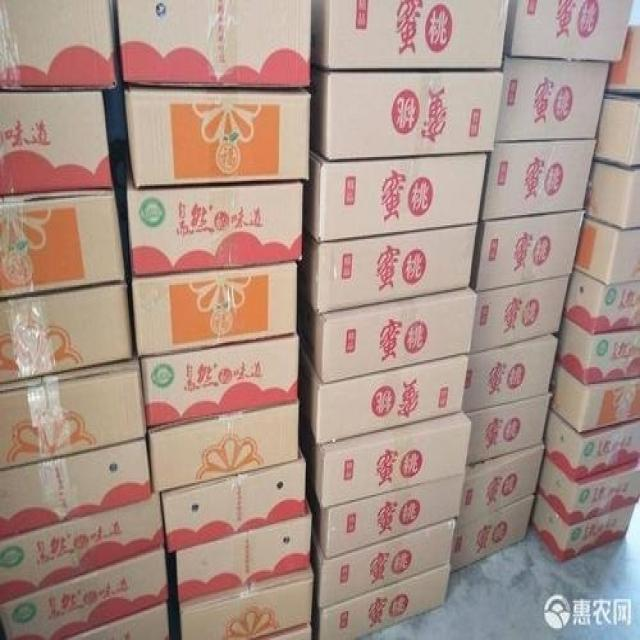box: (114, 179, 302, 282), (125, 86, 310, 187), (310, 64, 504, 158), (0, 493, 165, 602), (302, 147, 488, 240), (110, 2, 310, 88), (0, 353, 148, 469), (297, 219, 480, 312), (297, 286, 474, 381), (299, 412, 473, 507), (136, 336, 299, 436), (298, 352, 471, 445), (127, 260, 298, 352), (0, 437, 153, 538), (0, 548, 168, 638), (146, 402, 300, 495), (160, 458, 307, 554), (0, 190, 127, 300), (0, 284, 136, 382), (166, 515, 312, 605), (306, 476, 464, 559), (312, 518, 459, 607), (1, 89, 113, 197), (0, 0, 118, 90), (168, 568, 313, 638), (495, 56, 611, 140), (312, 569, 450, 638), (480, 139, 599, 218), (474, 209, 585, 285), (462, 329, 563, 412), (472, 270, 574, 352), (505, 0, 634, 62), (529, 493, 639, 563), (536, 453, 639, 526), (450, 492, 536, 573), (545, 407, 639, 479), (549, 362, 639, 435), (459, 445, 546, 518), (463, 395, 551, 467), (557, 320, 639, 388), (565, 268, 639, 337), (575, 217, 639, 284), (585, 156, 639, 230), (596, 95, 639, 167), (605, 27, 638, 95)
